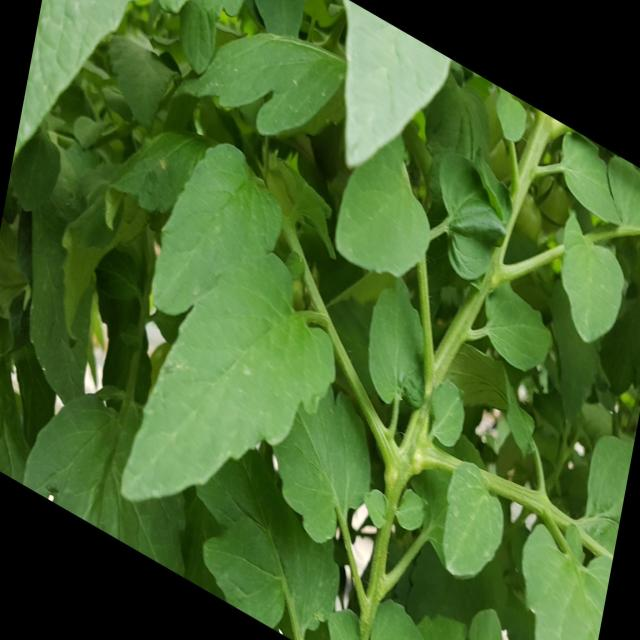Healthy Leaf: (118, 272, 345, 509), (149, 140, 286, 319), (334, 122, 435, 285), (366, 273, 430, 410), (440, 460, 507, 587), (558, 239, 627, 348)
